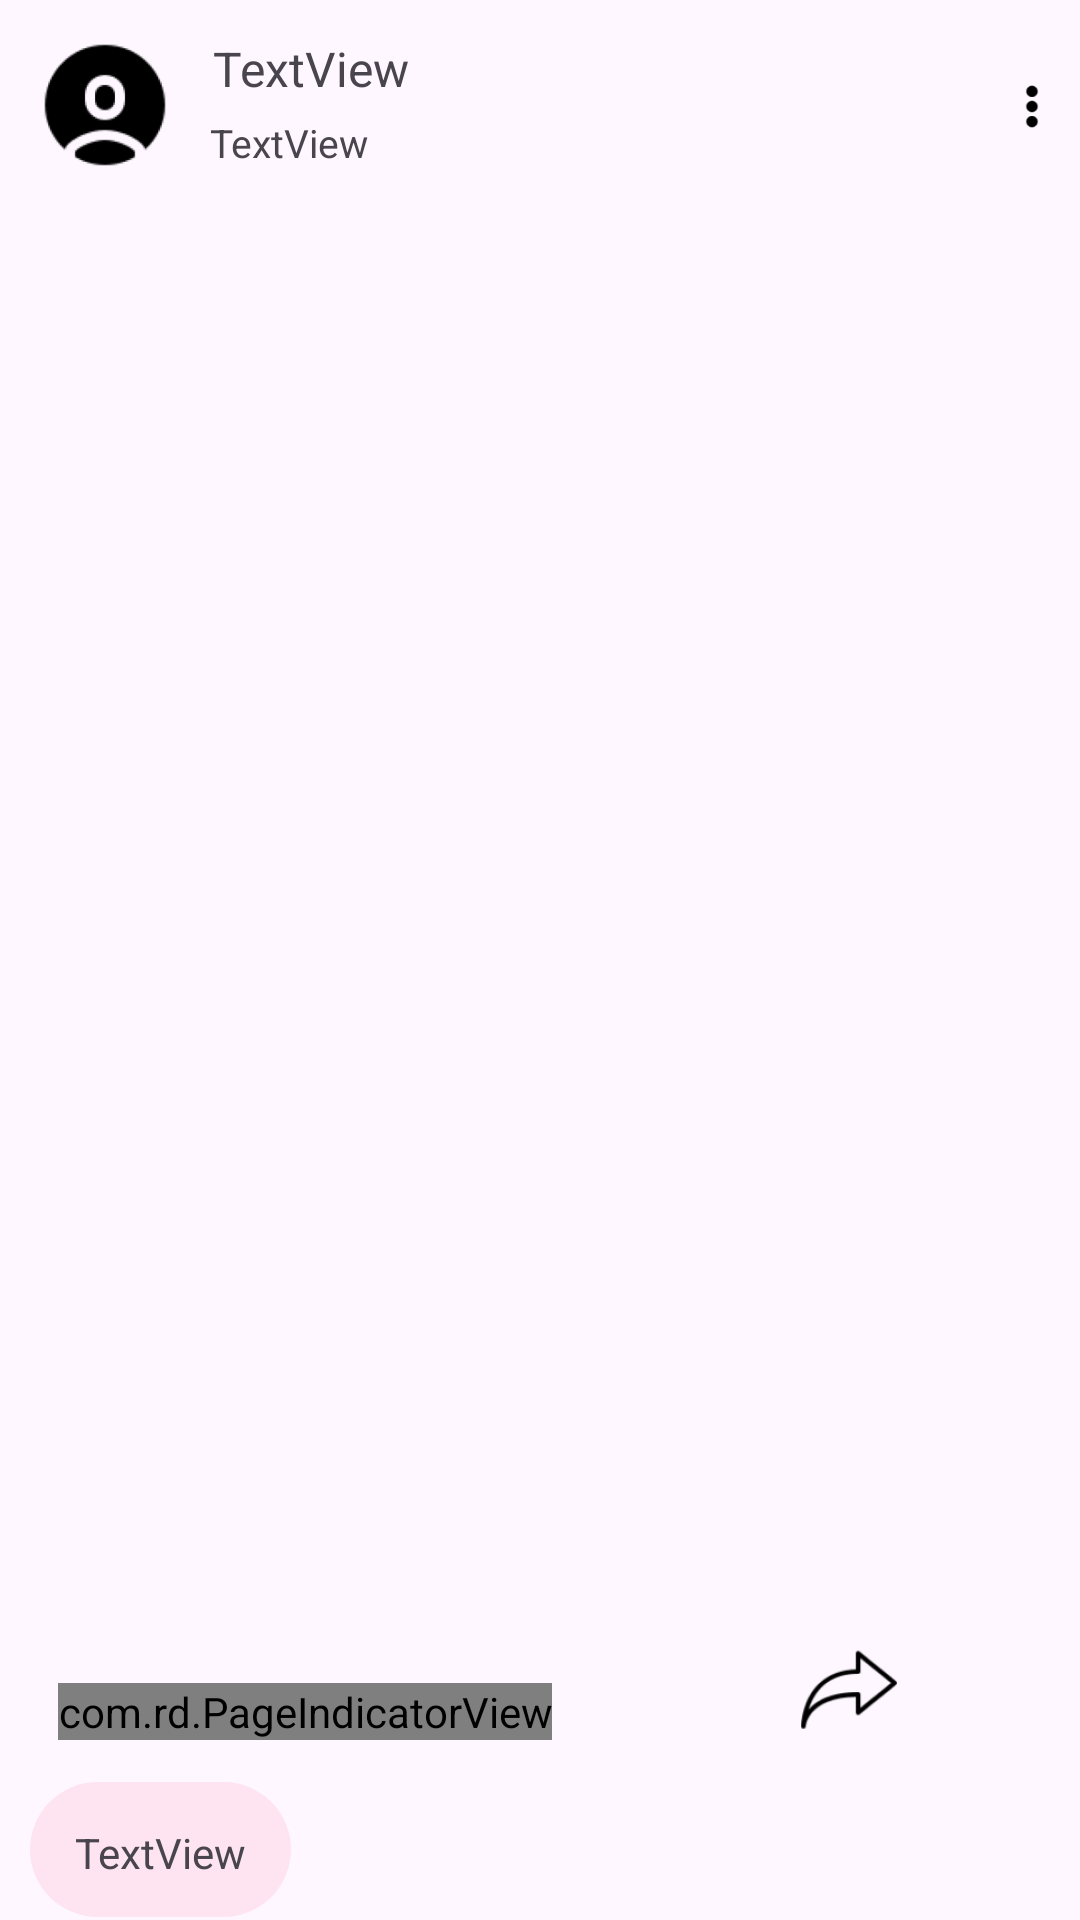

Named icons in this screenshot (1080x1920) and their bounding boxes, (x1, y1, x2, y2):
profile: (44, 44, 166, 166)
share: (801, 1650, 897, 1729)
verticalmenu: (1026, 85, 1038, 128)
